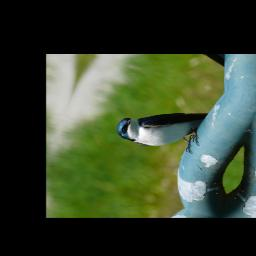Swallow: (112, 91, 211, 162)
